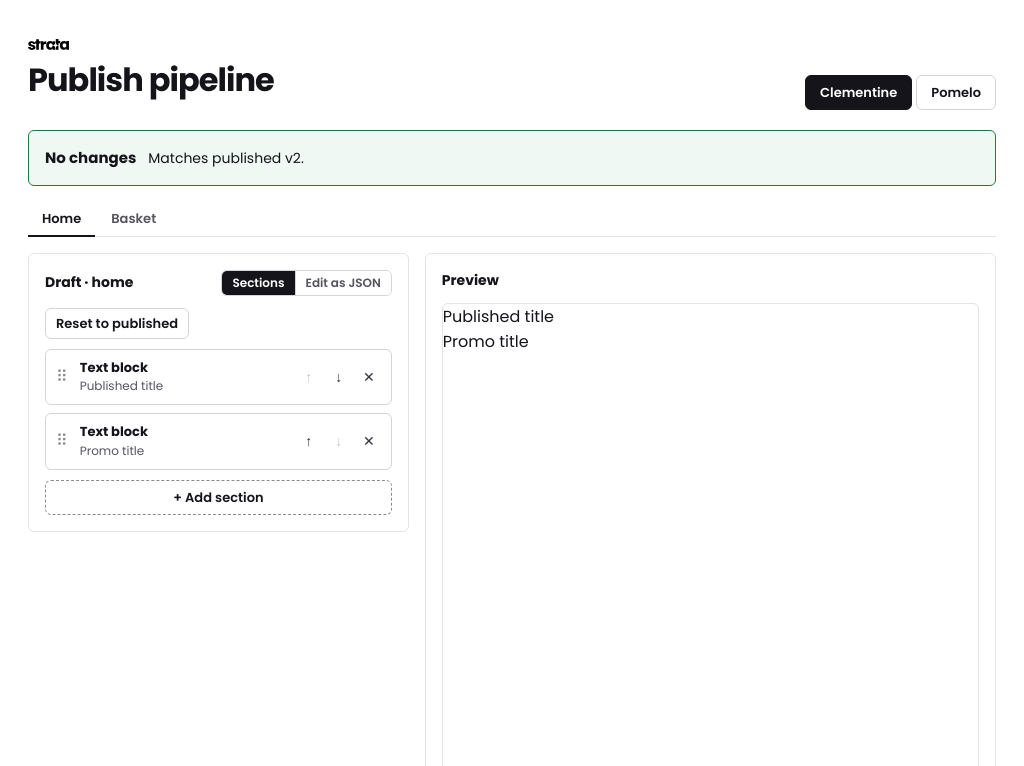
Test: the section editor › fills a type the brand has never used with placeholders and flags them
The width and height of the screenshot is (1024, 766).
expect the text "Matches published v2." is shown: met, box [148, 149, 304, 169]
Click the button "+ Add section": (218, 497) [45, 480, 392, 515]
(page scrolled)
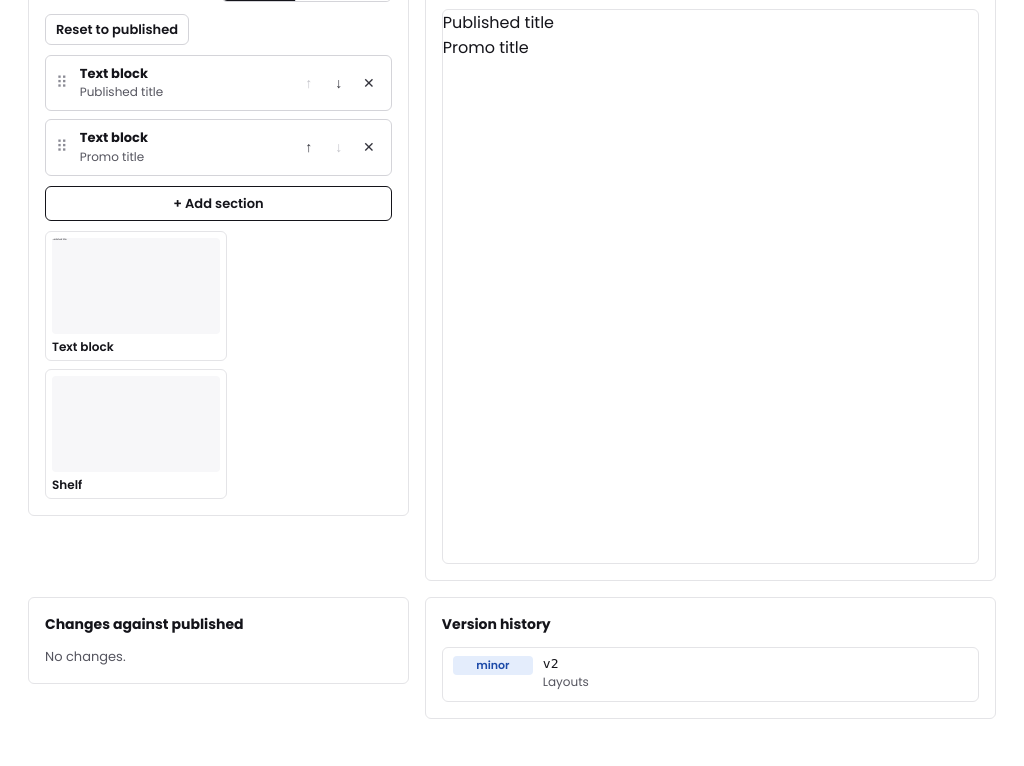
Click the button "Shelf": (136, 485) [52, 478, 220, 492]
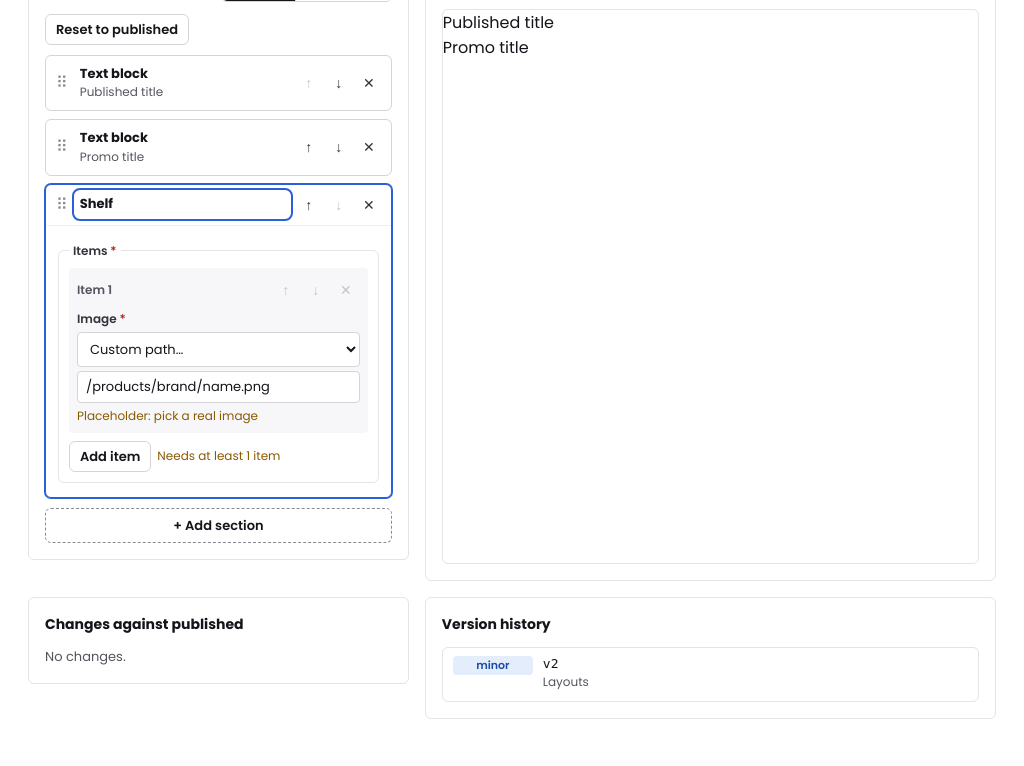
expect the text "Placeholder: pick a real image" is shown: met, box [77, 407, 258, 424]
expect the button named "Delete item 1" is disabled: met, box [332, 276, 360, 304]
Click the button "Add item": (110, 456) [69, 441, 151, 472]
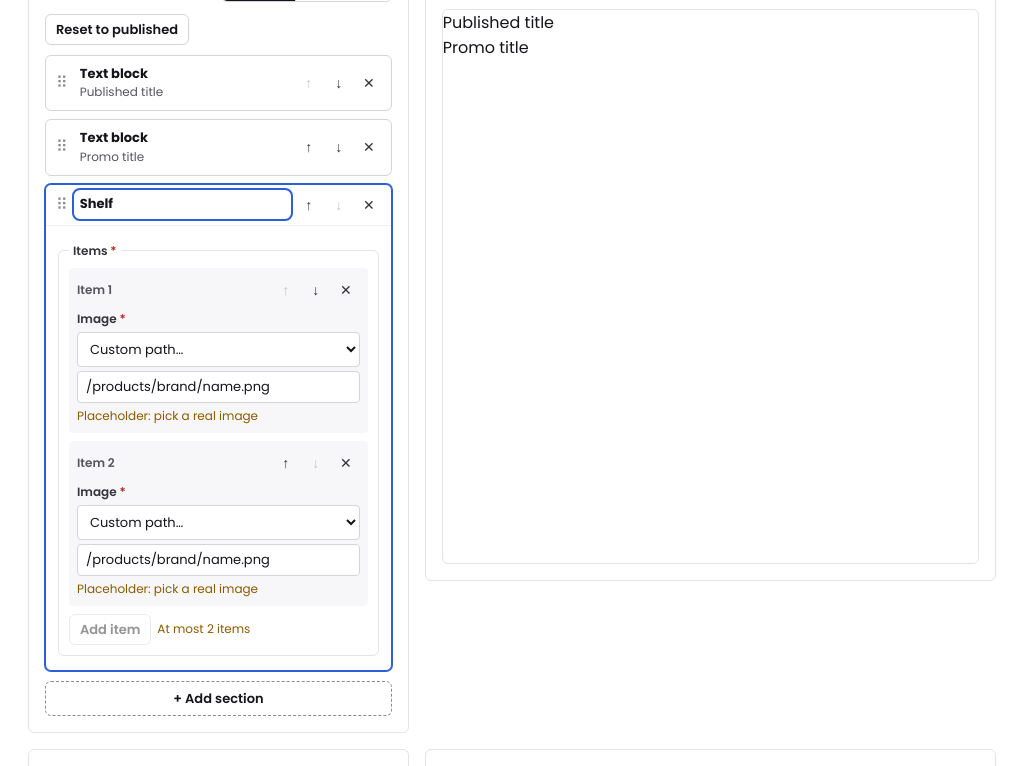
expect the button "Add item" is disabled: met, box [69, 614, 151, 645]
expect the text "At most 2 items" is shown: met, box [157, 620, 250, 638]
